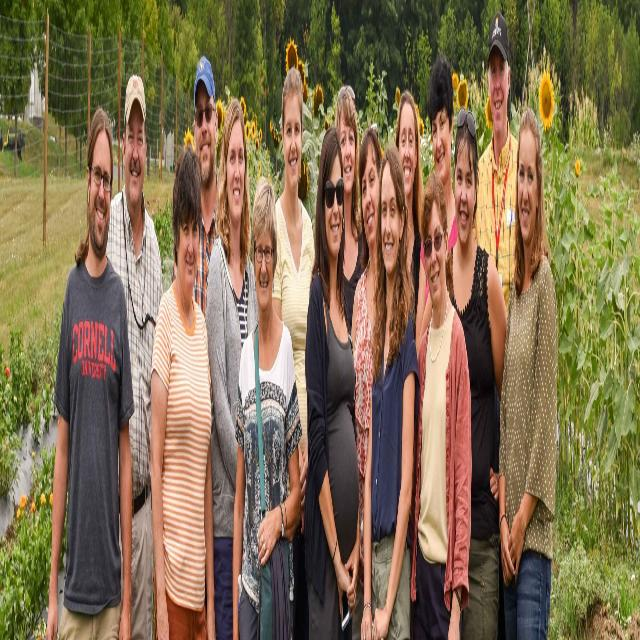body: (43, 93, 136, 639), (230, 166, 305, 639), (148, 134, 218, 639), (495, 101, 559, 639), (444, 104, 508, 640), (106, 71, 165, 640), (303, 113, 365, 639), (408, 168, 474, 639), (360, 138, 421, 639), (204, 95, 259, 639), (270, 63, 318, 640), (171, 52, 224, 434), (350, 124, 383, 639), (470, 7, 522, 322), (414, 48, 458, 366), (333, 82, 370, 338), (394, 87, 425, 326), (0, 126, 24, 164), (145, 150, 157, 182), (168, 155, 178, 174)
